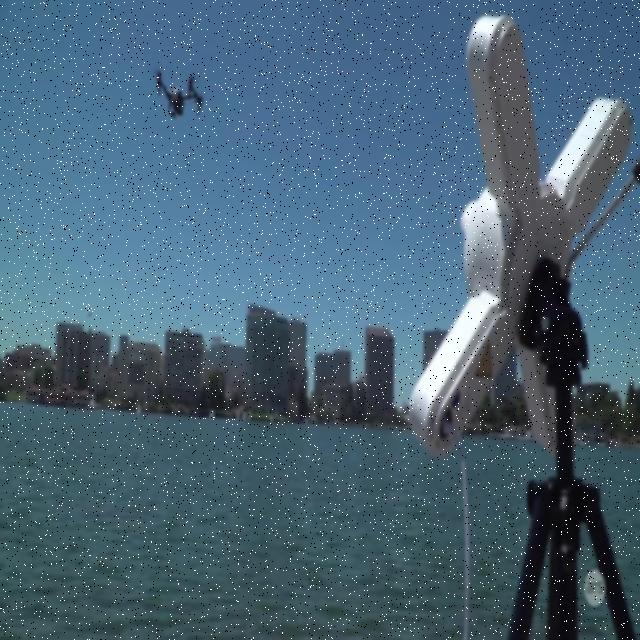UAV: (157, 71, 203, 119)
